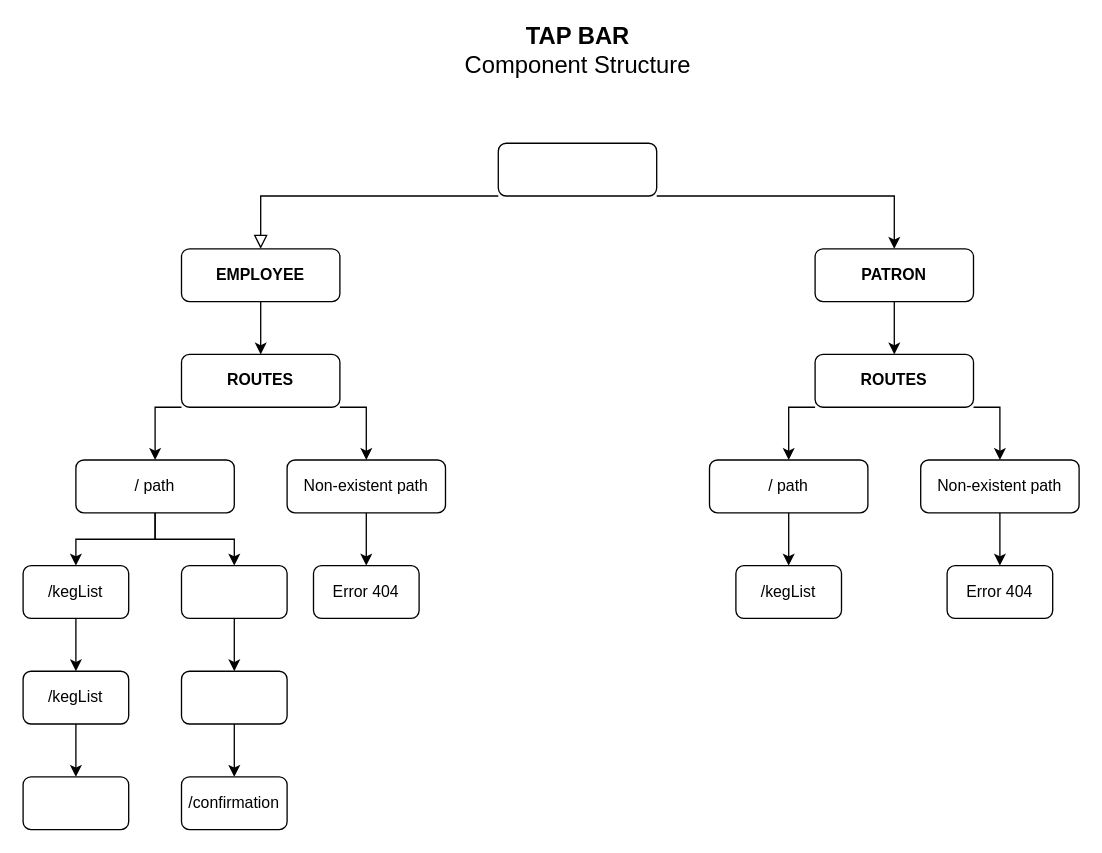
Some shapes in this 1102 by 853 pixel diagram are drawn without their labels. The centre of each missing label's shape, as x and y in pixels:
/edit: pixel 75 803
/newKeg: pixel 233 591
/newKegForm: pixel 233 697
APP: pixel 577 169
